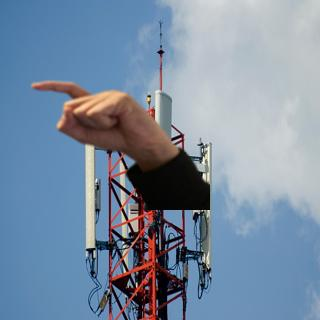WHY: (24, 70, 175, 164)
